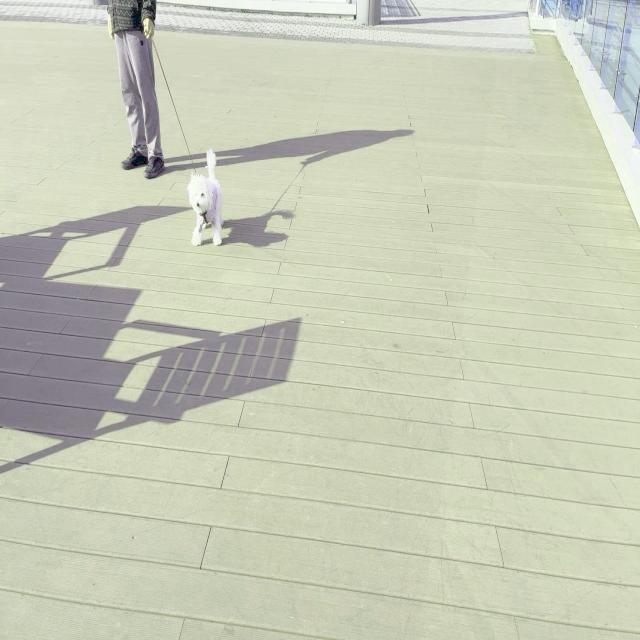Leashed_Dog: (138, 14, 224, 246)
